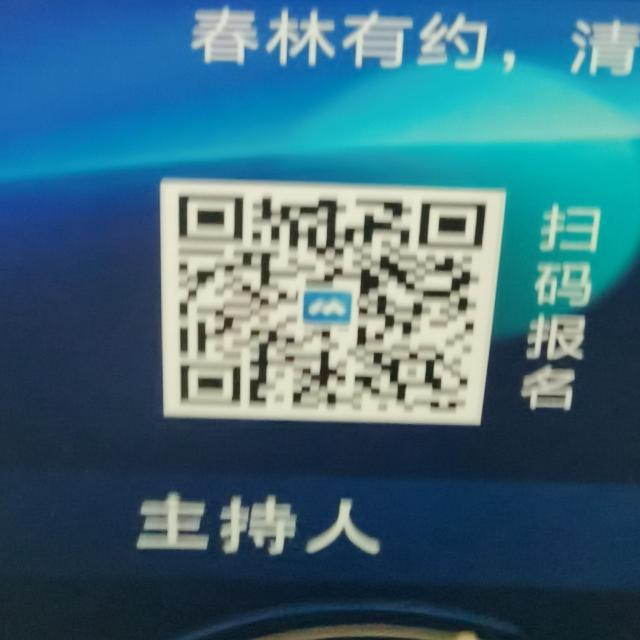qr_code: (178, 194, 487, 413)
